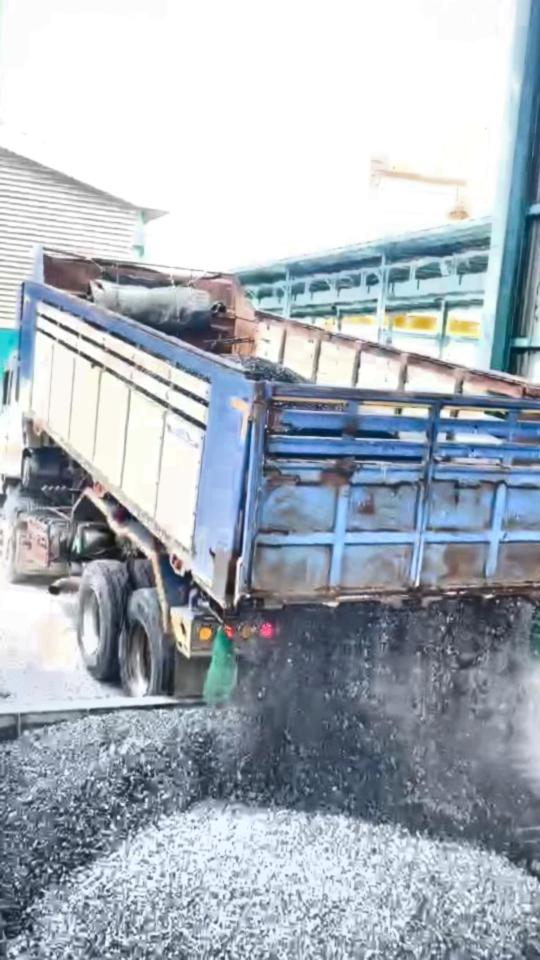gravel: (36, 802, 540, 960), (248, 601, 533, 840), (0, 707, 245, 904), (237, 357, 307, 383), (0, 683, 10, 704)
